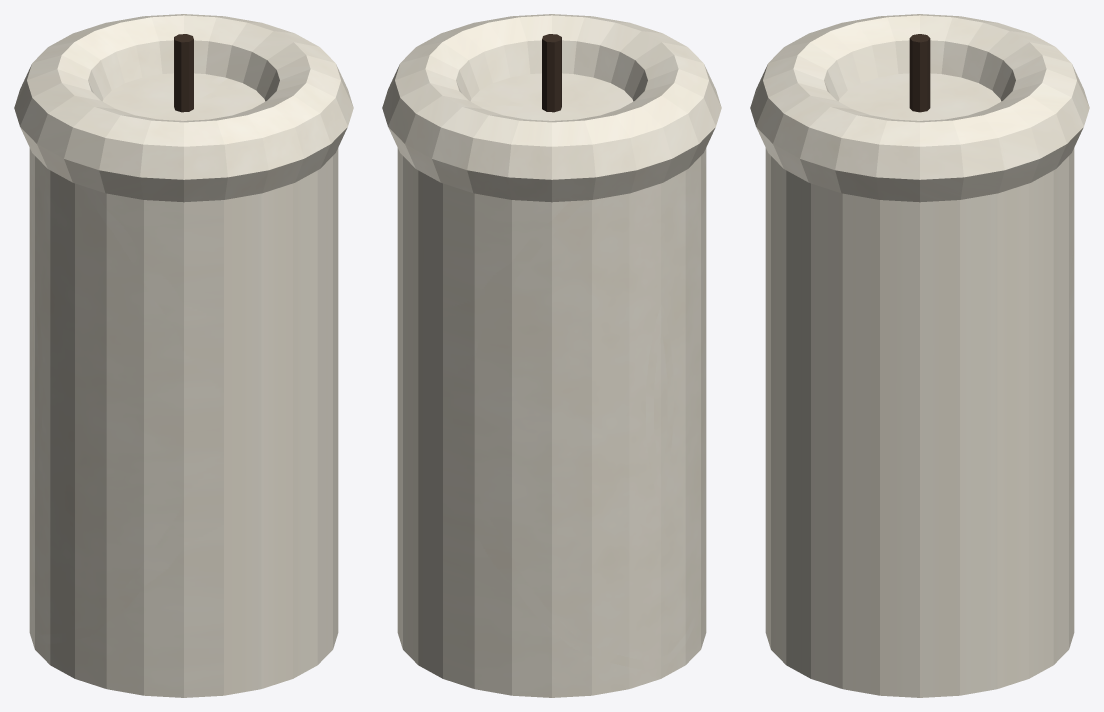
The model's file is candle_short.glb.
3 views of the same model, side by side, from view 1: azimuth 30°, elevation 25°; view 2: azimuth 150°, elevation 25°; view 3: azimuth 270°, elevation 25° (orthographic).
Parts seen in each view (by area): view 1: Wax, MeltRim, Wick; view 2: Wax, MeltRim, Wick; view 3: Wax, MeltRim, Wick.
Part boxes in pixels (<box>): Wax: <box>29,73,338,697</box>; MeltRim: <box>14,14,353,202</box>; Wick: <box>174,34,193,112</box>; Wax: <box>397,73,706,697</box>; MeltRim: <box>382,14,721,202</box>; Wick: <box>542,34,561,112</box>; Wax: <box>765,73,1074,697</box>; MeltRim: <box>750,14,1089,202</box>; Wick: <box>909,34,930,112</box>.
Size of the model in its own units: 0.0528 by 0.102 by 0.0528.
2 materials, 1 textured.
